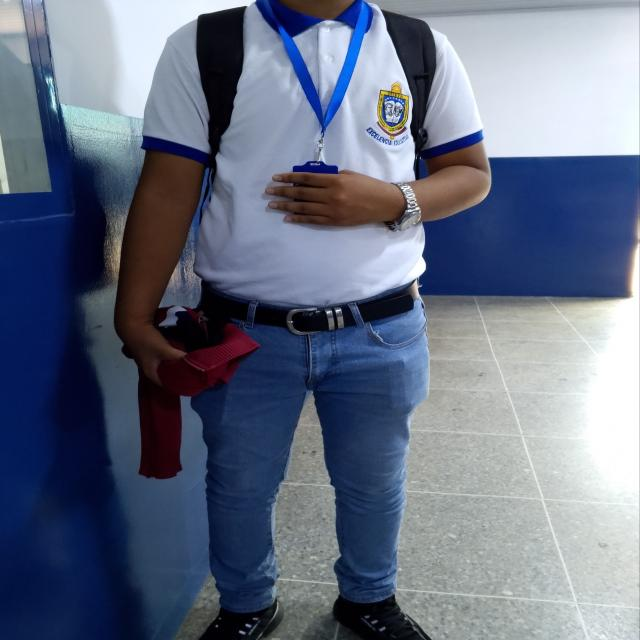carnet: (293, 165, 338, 222)
uniforme_superior: (139, 0, 484, 306)
